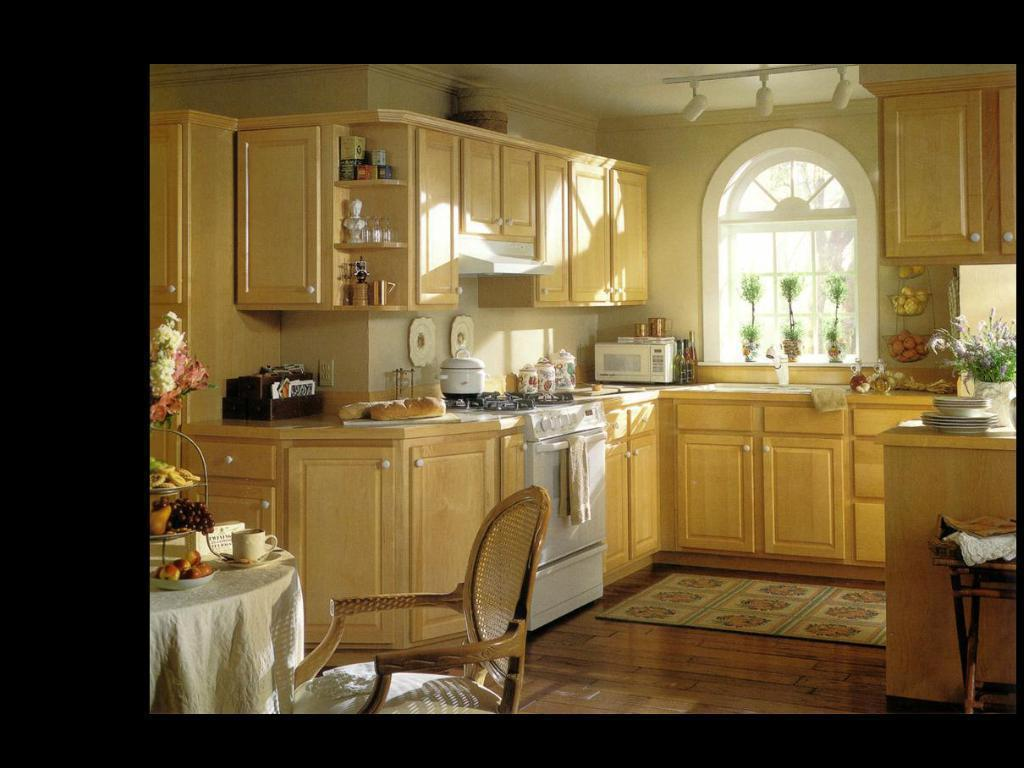Electrodomestico: (535, 421, 607, 608)
Lavaplatos: (694, 342, 816, 399)
